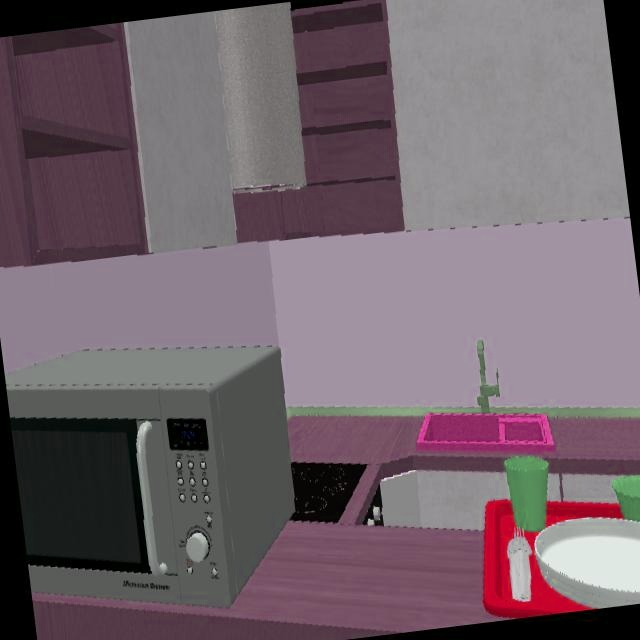cabinet: (384, 0, 602, 232), (117, 1, 307, 254)
countertop: (202, 494, 484, 627), (288, 406, 481, 464), (497, 407, 640, 473)
microwave: (4, 345, 294, 609)
oven: (362, 493, 389, 529)
shelf: (233, 0, 405, 243), (0, 24, 147, 268)
sink: (414, 411, 561, 461)
stove: (292, 461, 367, 524)
